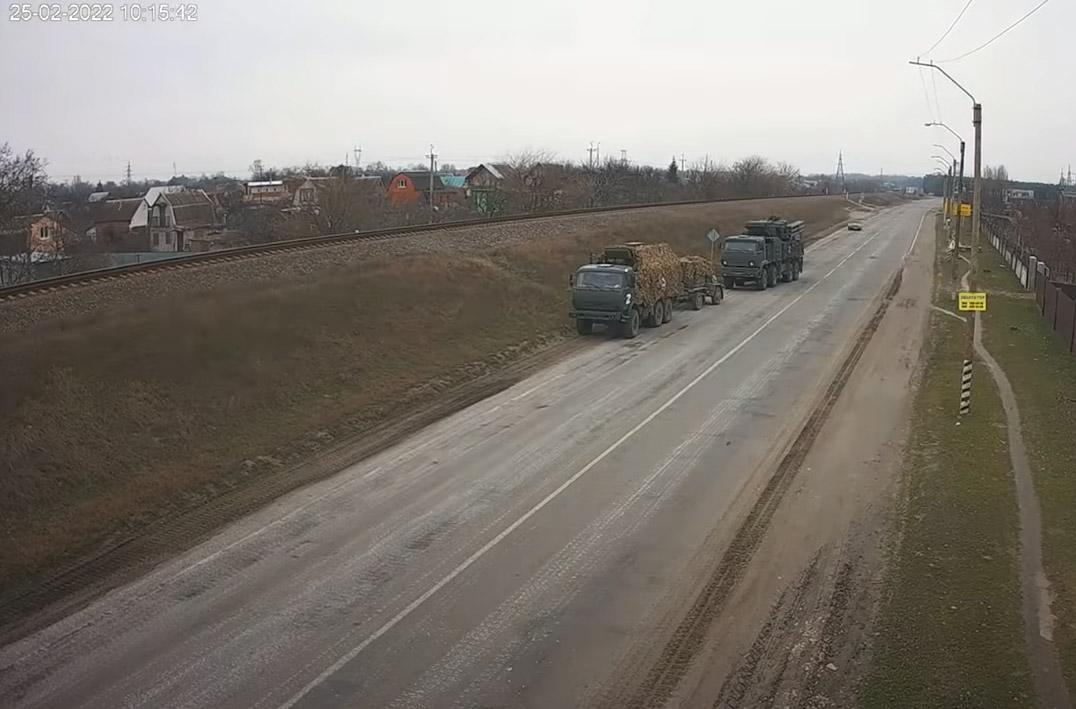car: (847, 217, 863, 232)
truck: (568, 241, 723, 327), (720, 223, 812, 292)
